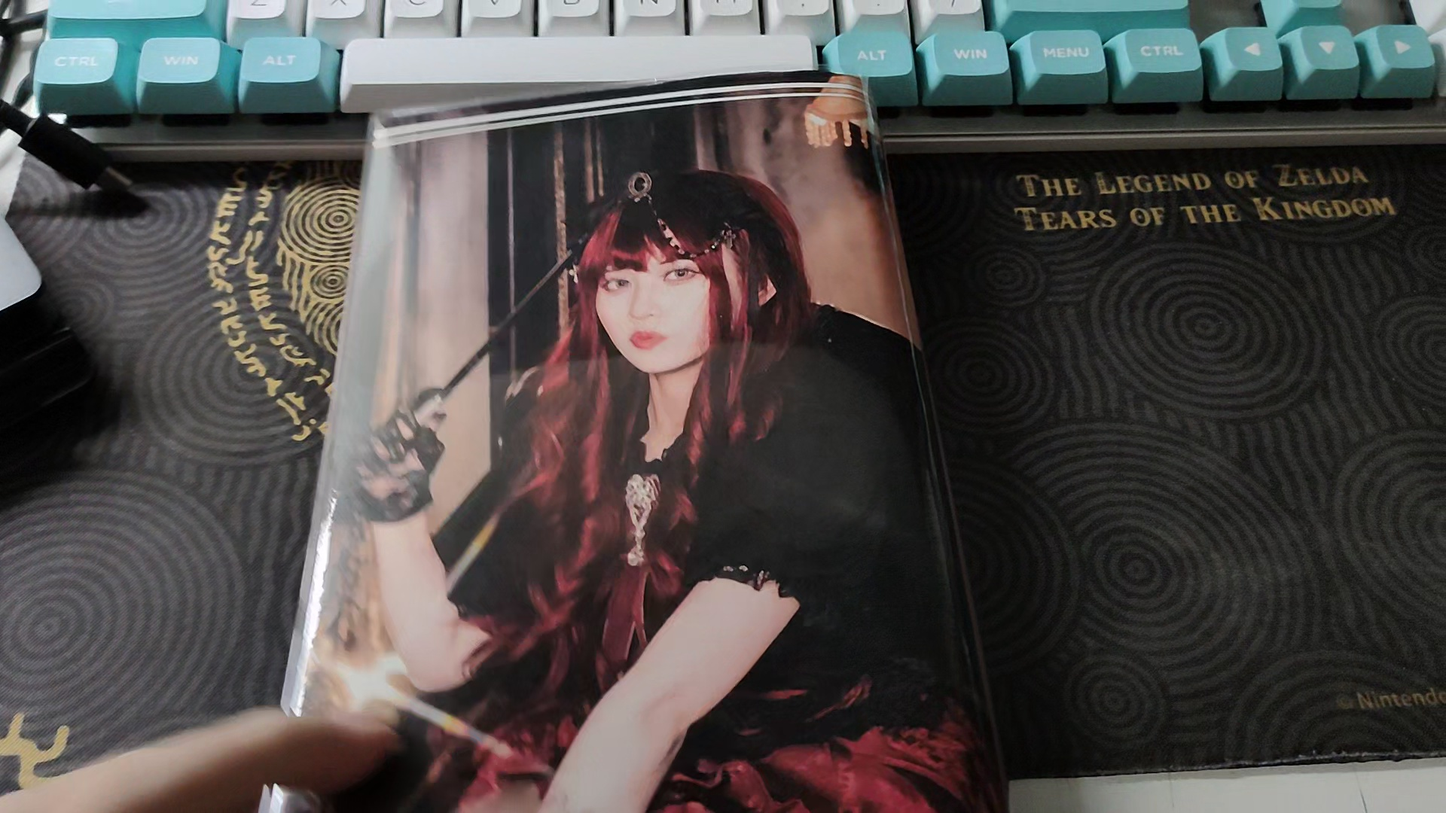Photo_book: (249, 70, 1009, 813)
